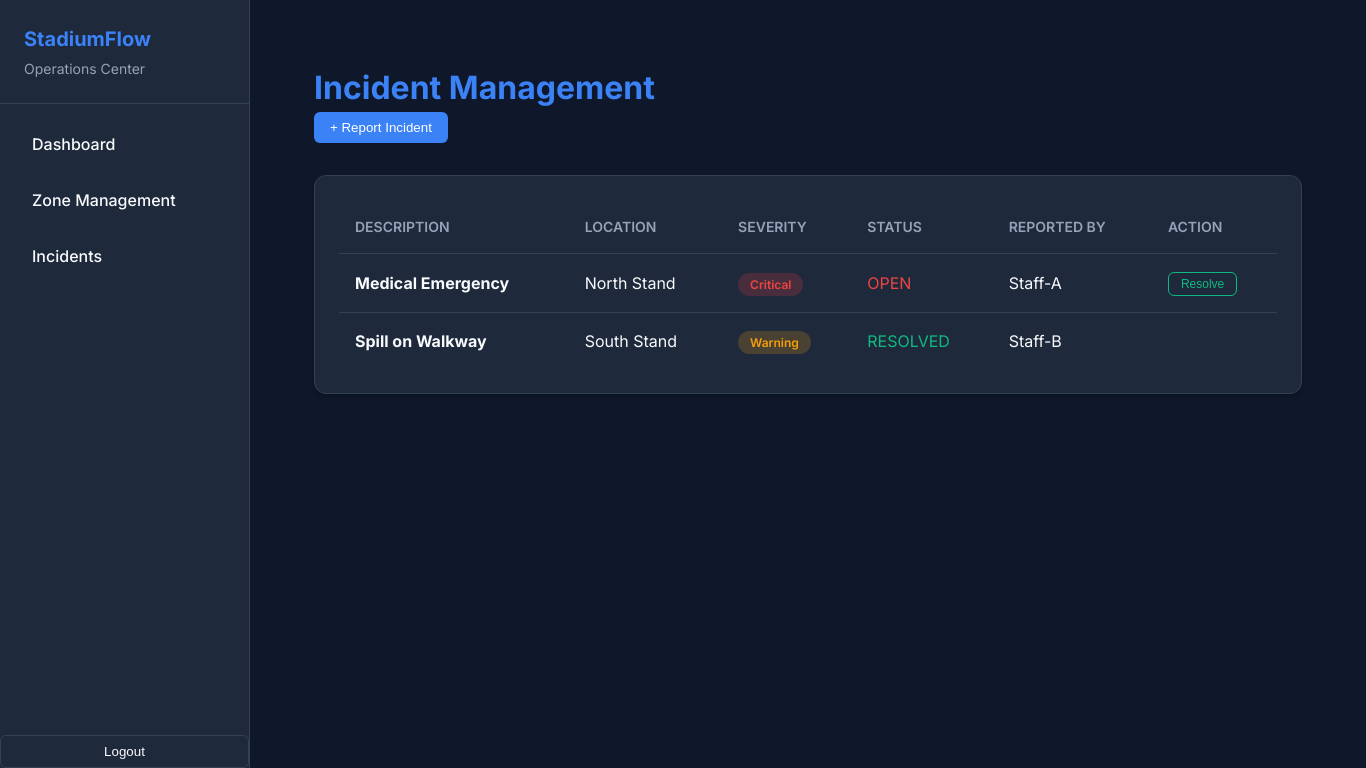
Scenario: Report Incident Workflow › closes the form when Cancel is clicked
The width and height of the screenshot is (1366, 768).
Click the button with aria-label "Report a new incident" at point(381, 128), box [314,112,448,143]
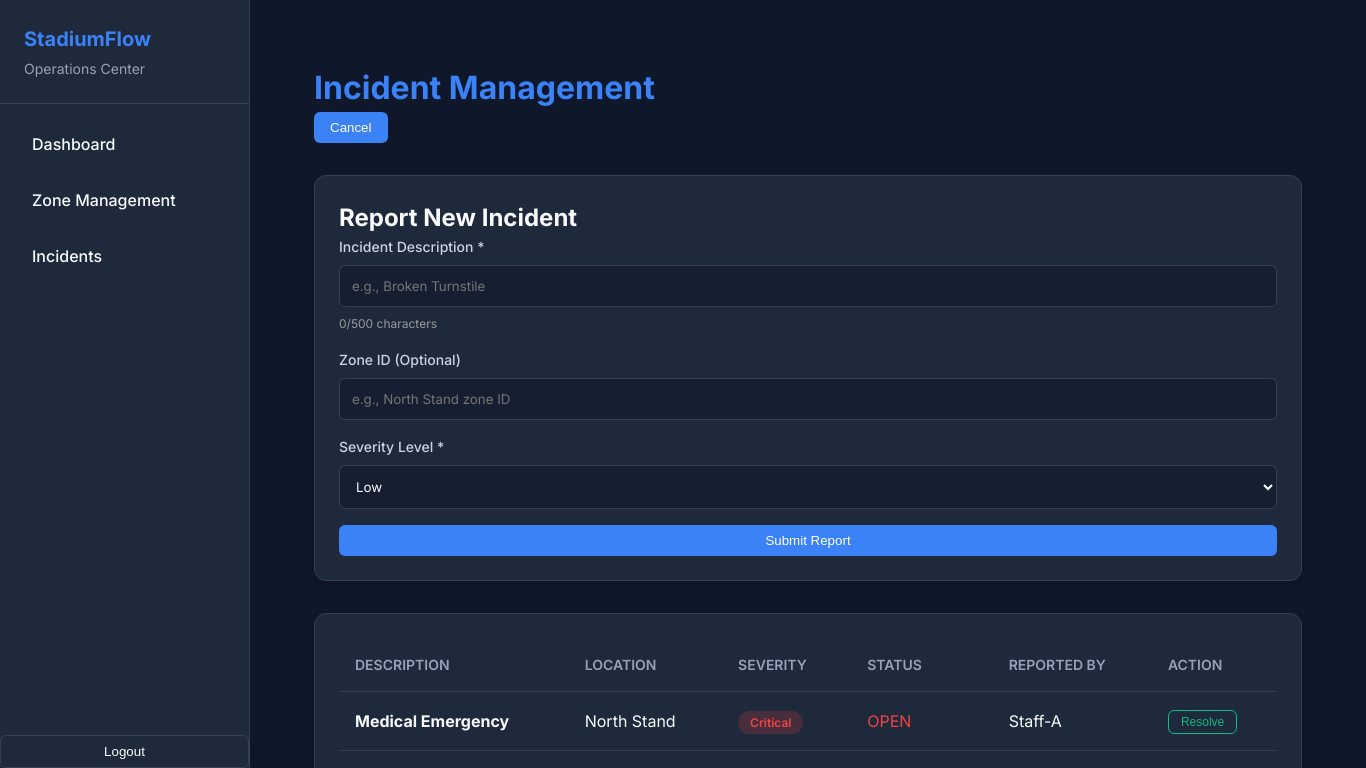
Expected: the heading "Report New Incident" is shown, [339,203,577,232]
Click the button with aria-label "Cancel incident report" at point(351, 128), box [314,112,388,143]
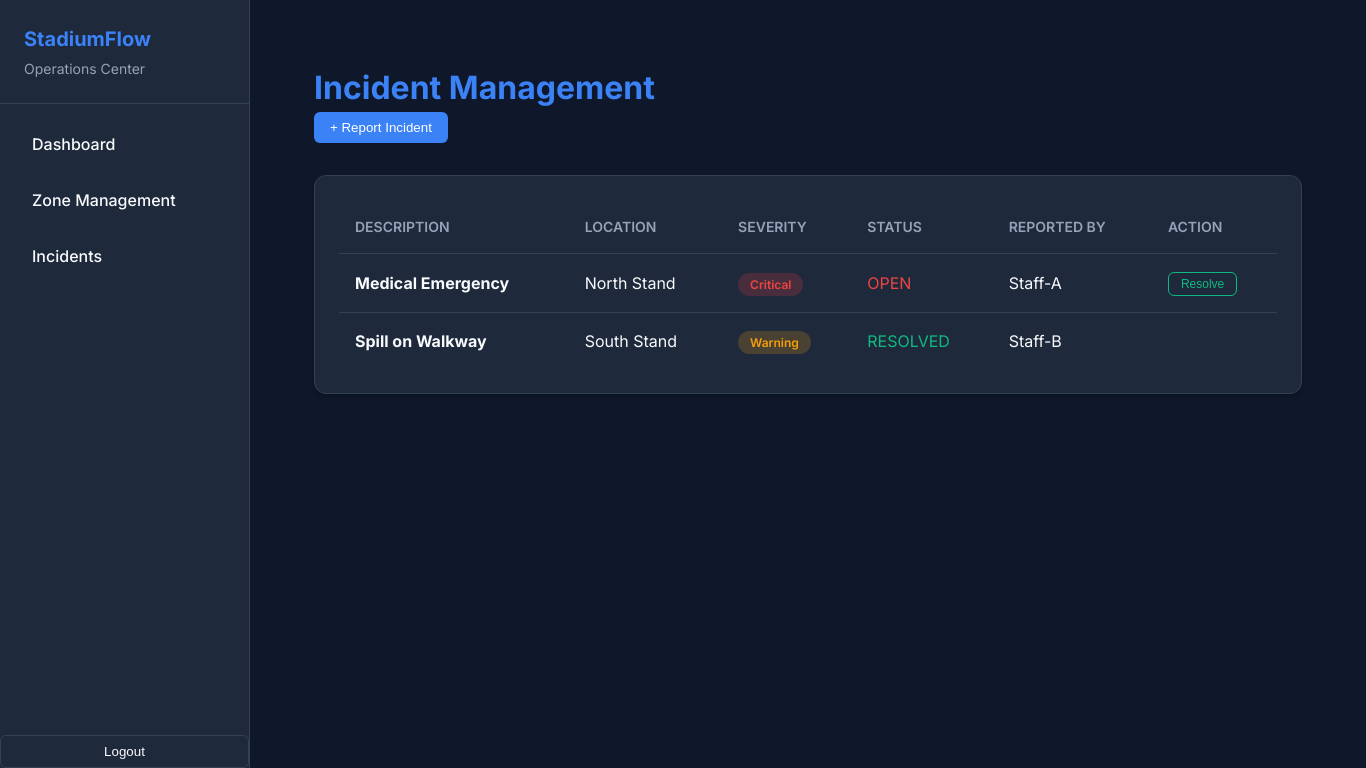
Expected: the heading "Report New Incident" is gone
